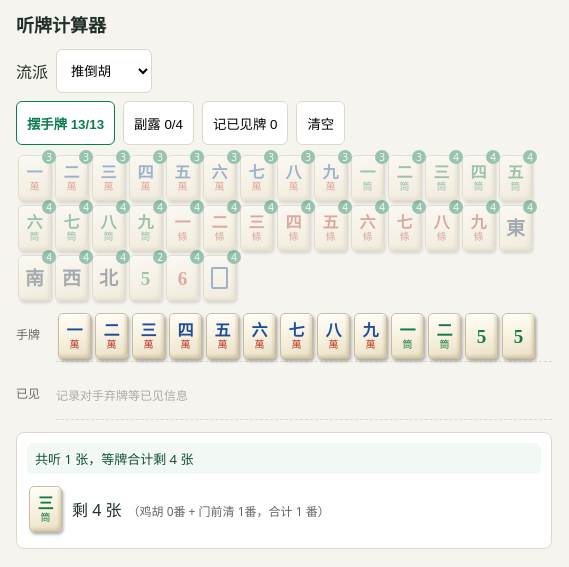
Test: 计算器页面 › 记录已见牌后剩余张数扣减
Earlier steps of the test are not shown.
Click the button with test id "mode-seen".
click(245, 123)  # box [202, 101, 288, 145]
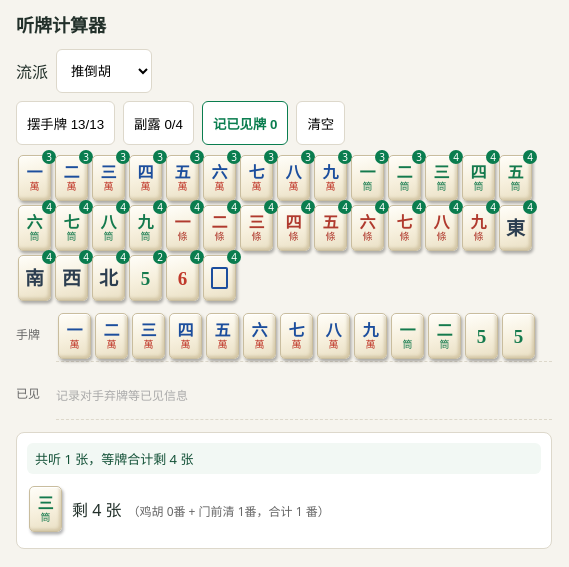
Click the button with test id "pick-p3".
click(442, 178)  # box [425, 155, 458, 201]
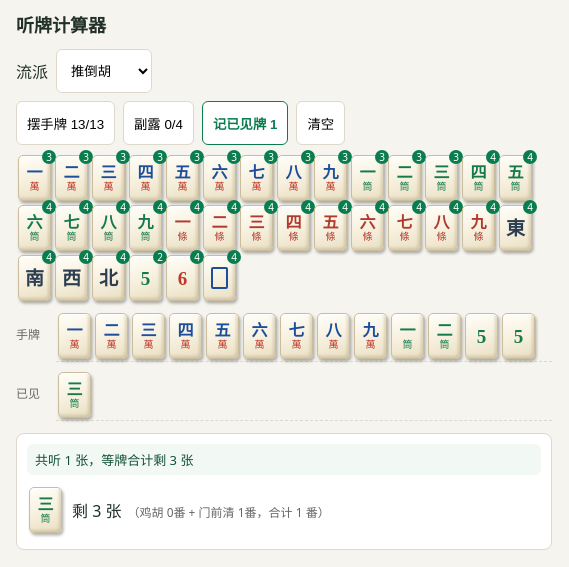
Expected: the element with test id "calc-wait-p3" shows "剩 3 张", [29, 487, 330, 533]
